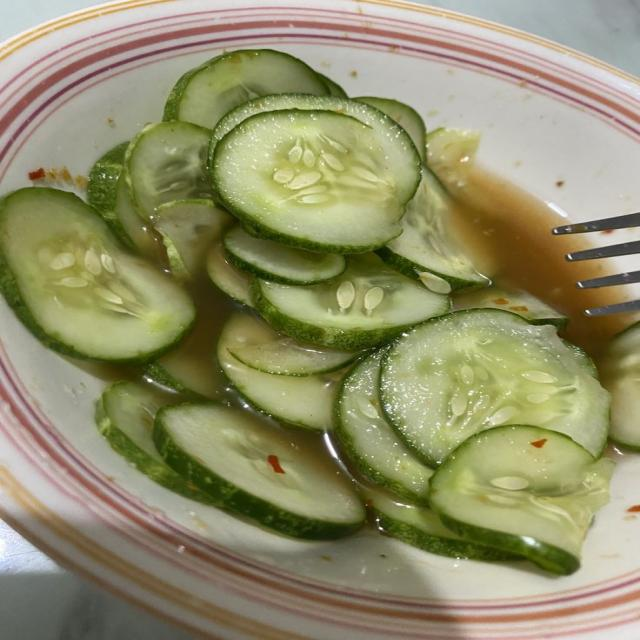cucumber sliced: (380, 309, 609, 465), (0, 188, 194, 362), (212, 109, 420, 253), (154, 404, 365, 538), (430, 426, 614, 574), (254, 254, 450, 349), (336, 348, 433, 502), (217, 313, 342, 431), (96, 381, 215, 504), (209, 94, 413, 163), (377, 168, 488, 291), (163, 49, 329, 128), (367, 489, 520, 561), (87, 142, 161, 259), (125, 122, 212, 219), (223, 226, 346, 285), (230, 323, 361, 375), (153, 200, 233, 281), (454, 286, 569, 330), (599, 323, 639, 449), (355, 97, 426, 162), (427, 128, 480, 189), (206, 241, 253, 307), (87, 141, 128, 213), (317, 72, 347, 97)
